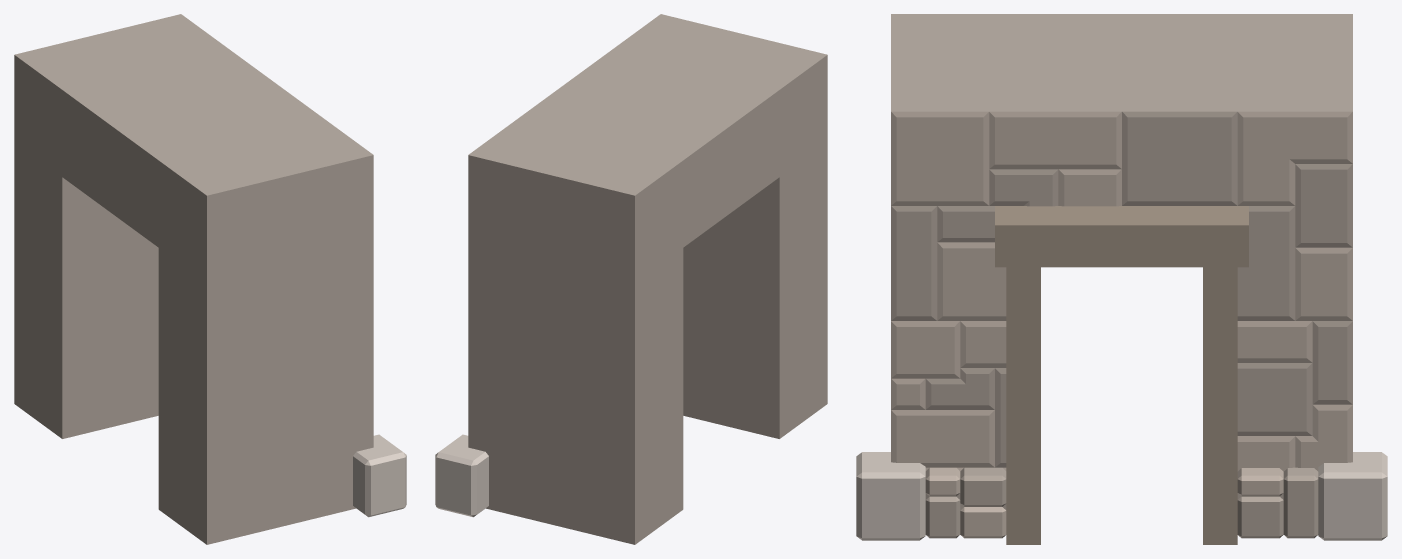
File: EntradaPiedra3.glb
3 views of the same model, side by side, from view 1: azimuth 30°, elevation 25°; view 2: azimuth 150°, elevation 25°; view 3: azimuth 270°, elevation 25° (orthographic). The views are drawn at different scales.
Visible parts, largest first — view 1: object6, object2; view 2: object6, object3; view 3: object6, object1, object5, object2, object3, object4.
Boxes of the visible parts, x1,y1,x2,y2 form: object6: (14,14,373,544); object2: (353,434,406,517); object6: (468,14,827,544); object3: (435,434,488,517); object6: (891,14,1352,471); object1: (995,206,1248,544); object5: (925,467,1006,538); object2: (856,452,925,540); object3: (1318,452,1387,540); object4: (1237,467,1318,538).
Size of the model in its own units: 1.2 by 2 by 2.3.
